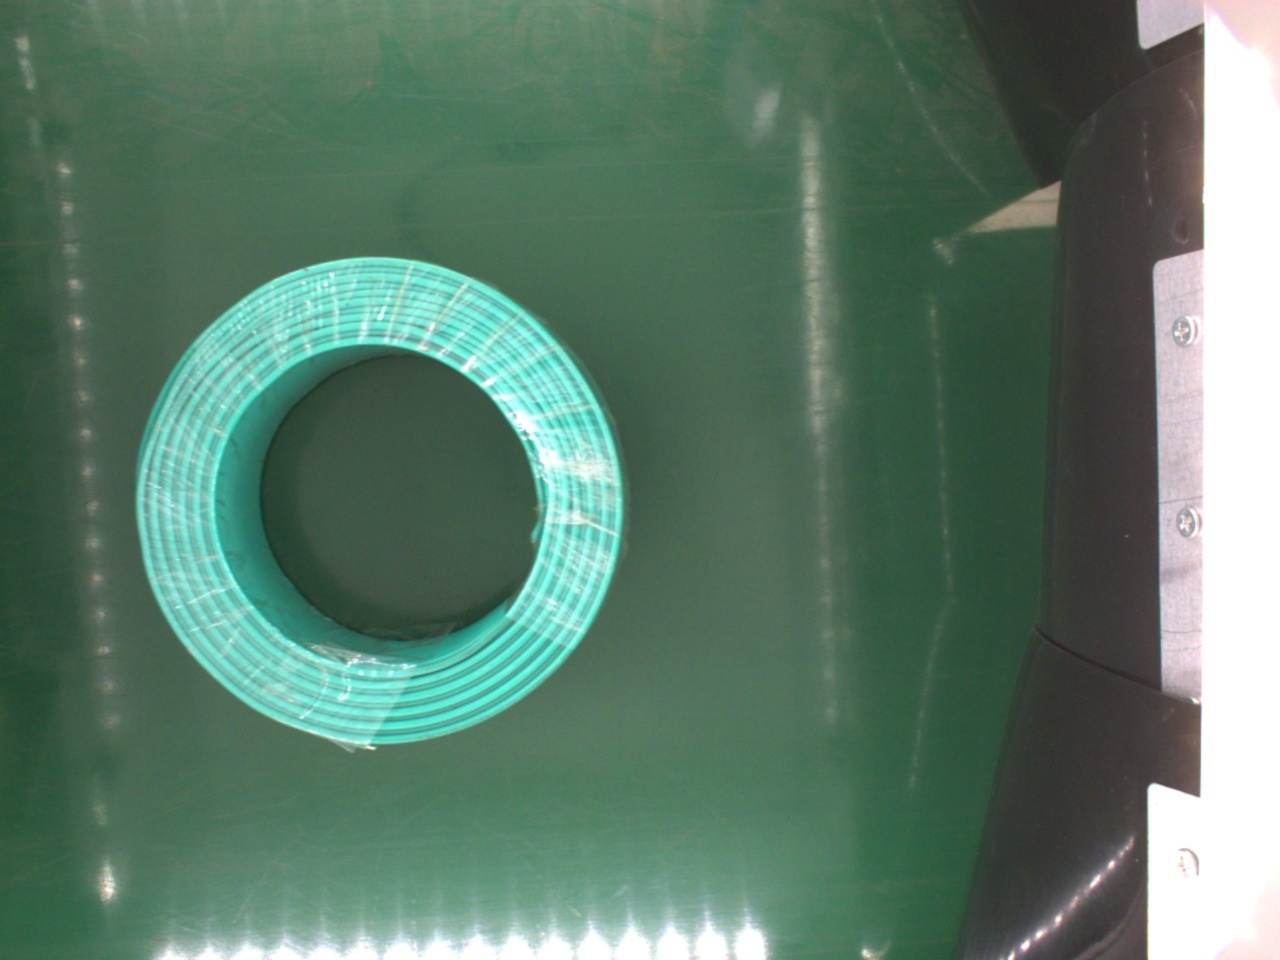green: (132, 254, 631, 749)
